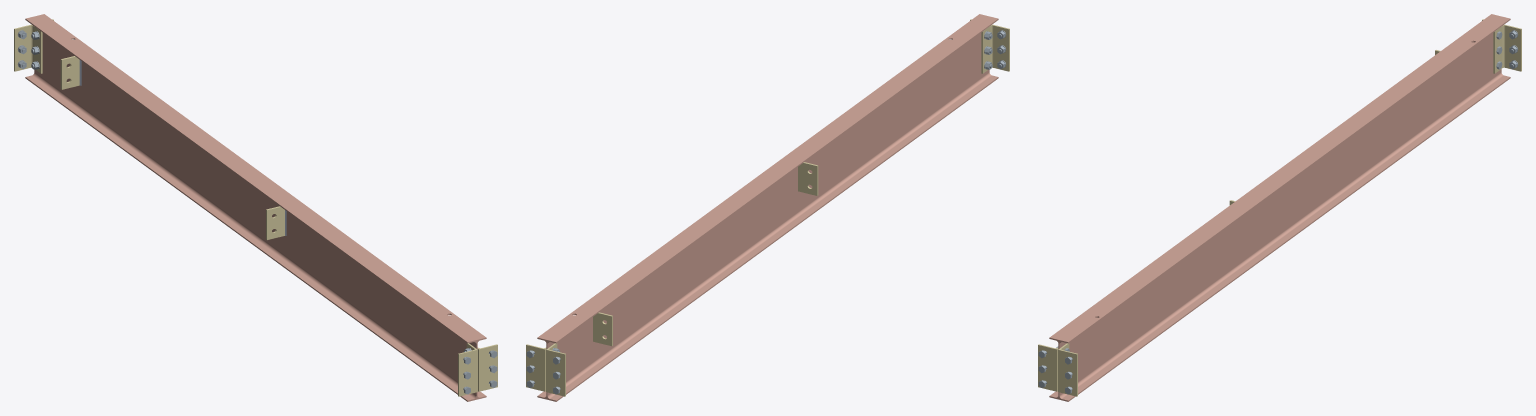
3 renders of one model, left to right at view 1: azimuth 30°, elevation 25°; view 2: azimuth 150°, elevation 25°; view 3: azimuth 330°, elevation 25°, orthographic.
Parts seen in each view (by area): view 1: product-8a79f396-e3f4-4980-b52a-08487798acc8-body, product-af41e749-669f-4ce2-abf0-e7faea9eb40b-body, product-95c85b2f-8dcf-4d03-80f2-25428cea96a1-body, product-0730883d-d080-4d2f-befb-e057a3650536-body, product-ae050f7a-8ecc-49bf-8db9-4e77a4bae708-body, product-79aa0829-0b59-49e9-9e03-68a92ac32d52-body; view 2: product-8a79f396-e3f4-4980-b52a-08487798acc8-body, product-95c85b2f-8dcf-4d03-80f2-25428cea96a1-body, product-af41e749-669f-4ce2-abf0-e7faea9eb40b-body, product-756cc087-627d-4175-96ed-f554cb29c35d-body, product-79aa0829-0b59-49e9-9e03-68a92ac32d52-body, product-ae050f7a-8ecc-49bf-8db9-4e77a4bae708-body; view 3: product-8a79f396-e3f4-4980-b52a-08487798acc8-body, product-756cc087-627d-4175-96ed-f554cb29c35d-body, product-0730883d-d080-4d2f-befb-e057a3650536-body, product-95c85b2f-8dcf-4d03-80f2-25428cea96a1-body.
Part boxes in pixels (x1,y1,x2,y2): product-8a79f396-e3f4-4980-b52a-08487798acc8-body: (25, 14, 486, 401); product-af41e749-669f-4ce2-abf0-e7faea9eb40b-body: (14, 24, 42, 73); product-95c85b2f-8dcf-4d03-80f2-25428cea96a1-body: (458, 343, 477, 396); product-0730883d-d080-4d2f-befb-e057a3650536-body: (477, 344, 497, 391); product-ae050f7a-8ecc-49bf-8db9-4e77a4bae708-body: (60, 56, 79, 89); product-79aa0829-0b59-49e9-9e03-68a92ac32d52-body: (266, 206, 284, 239); product-8a79f396-e3f4-4980-b52a-08487798acc8-body: (537, 14, 998, 401); product-95c85b2f-8dcf-4d03-80f2-25428cea96a1-body: (981, 24, 1009, 73); product-af41e749-669f-4ce2-abf0-e7faea9eb40b-body: (546, 343, 565, 396); product-756cc087-627d-4175-96ed-f554cb29c35d-body: (526, 344, 546, 391); product-79aa0829-0b59-49e9-9e03-68a92ac32d52-body: (798, 162, 818, 195); product-ae050f7a-8ecc-49bf-8db9-4e77a4bae708-body: (593, 312, 612, 346); product-8a79f396-e3f4-4980-b52a-08487798acc8-body: (1049, 14, 1510, 401); product-756cc087-627d-4175-96ed-f554cb29c35d-body: (1493, 24, 1521, 73); product-0730883d-d080-4d2f-befb-e057a3650536-body: (1058, 343, 1077, 396); product-95c85b2f-8dcf-4d03-80f2-25428cea96a1-body: (1038, 344, 1058, 391).
Size of the model in its own units: 0.2088 by 0.3048 by 4.17.
